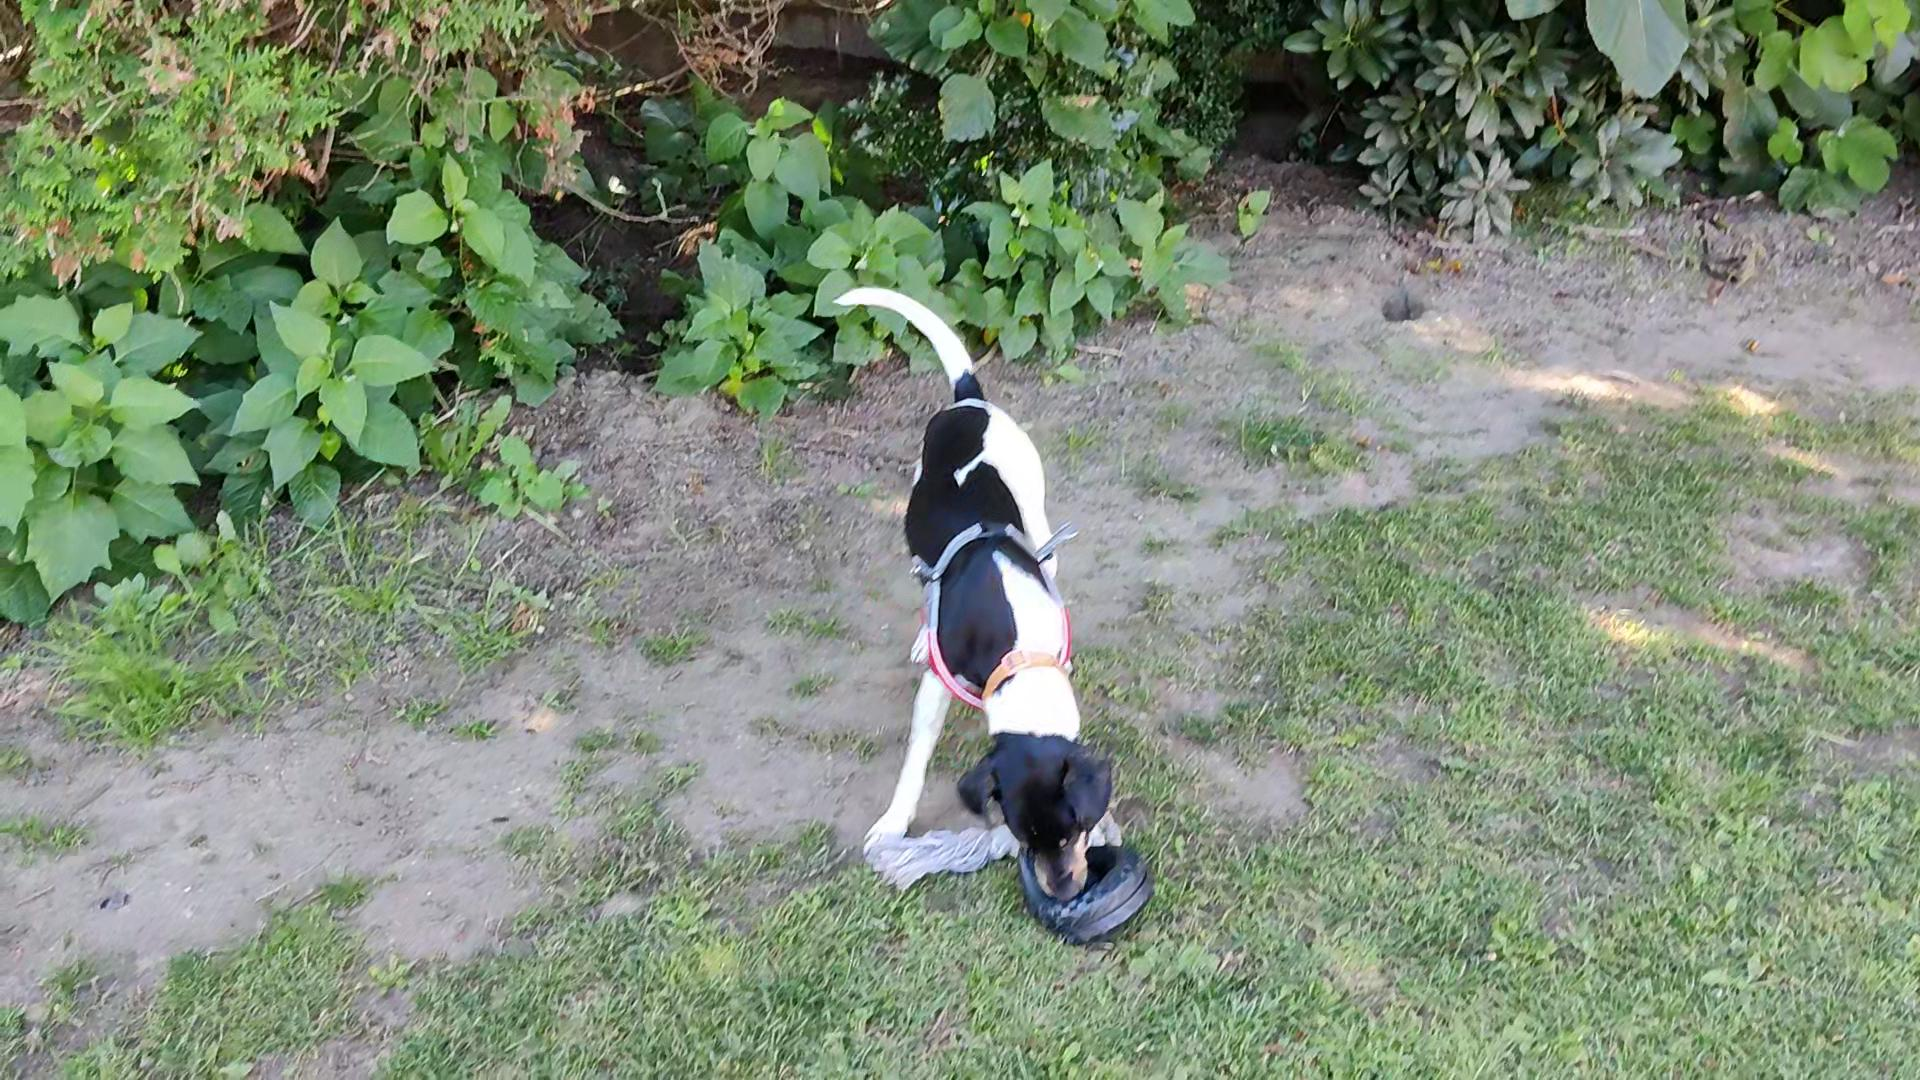Dog: (804, 252, 1184, 901)
